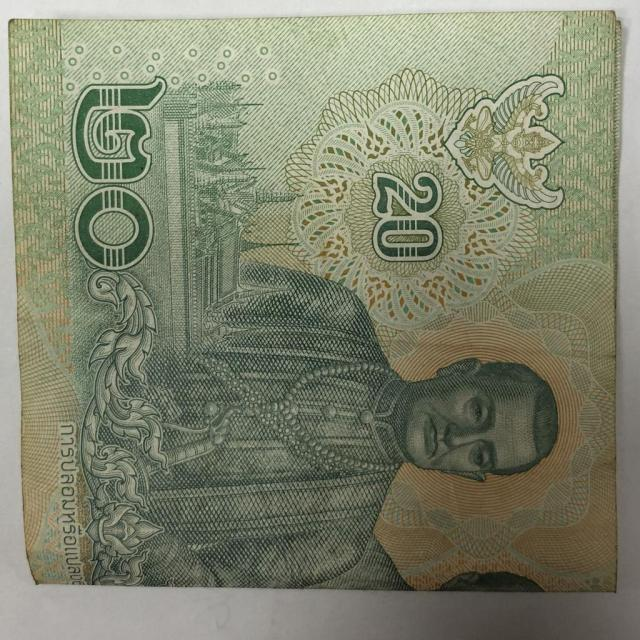THAI20: (10, 12, 620, 592)
